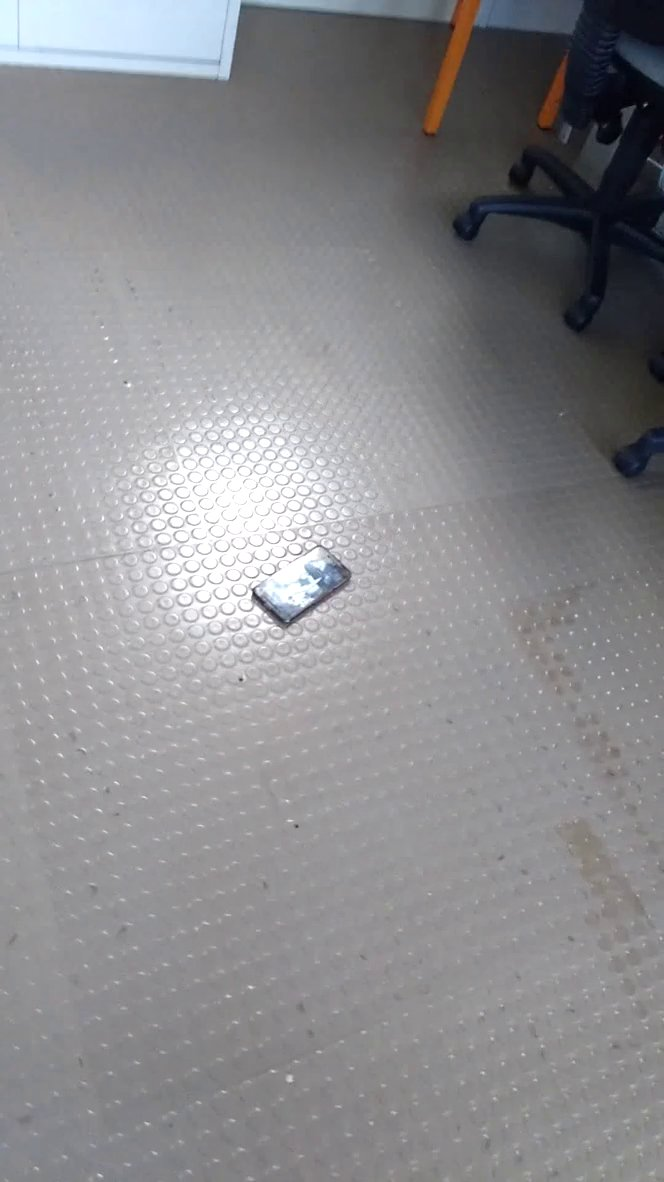phone: (234, 530, 376, 645)
